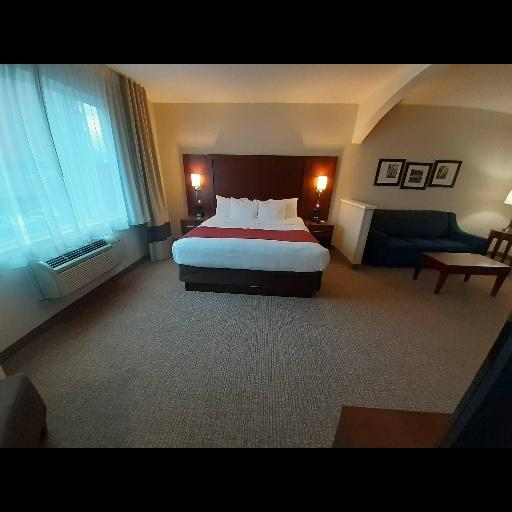clean_bed: (174, 149, 338, 295)
clean_floor: (16, 262, 511, 448)
organised_pillow: (212, 192, 302, 222)
organized table: (409, 251, 512, 295)
